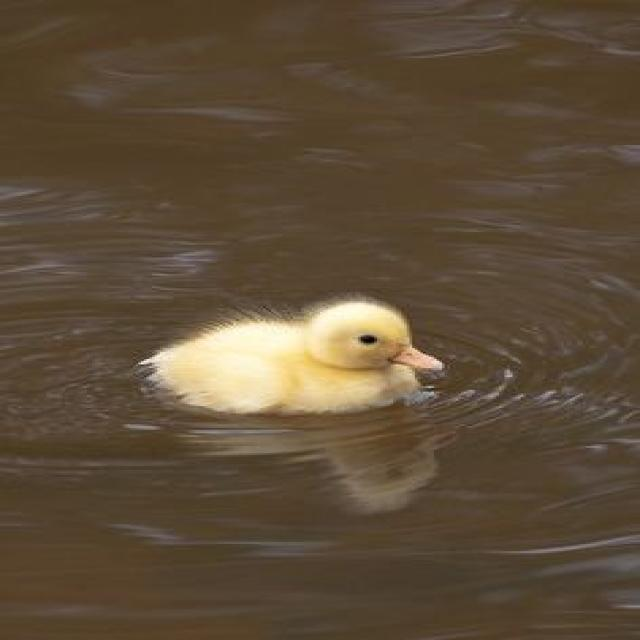Herbivorous: (138, 297, 442, 417)
